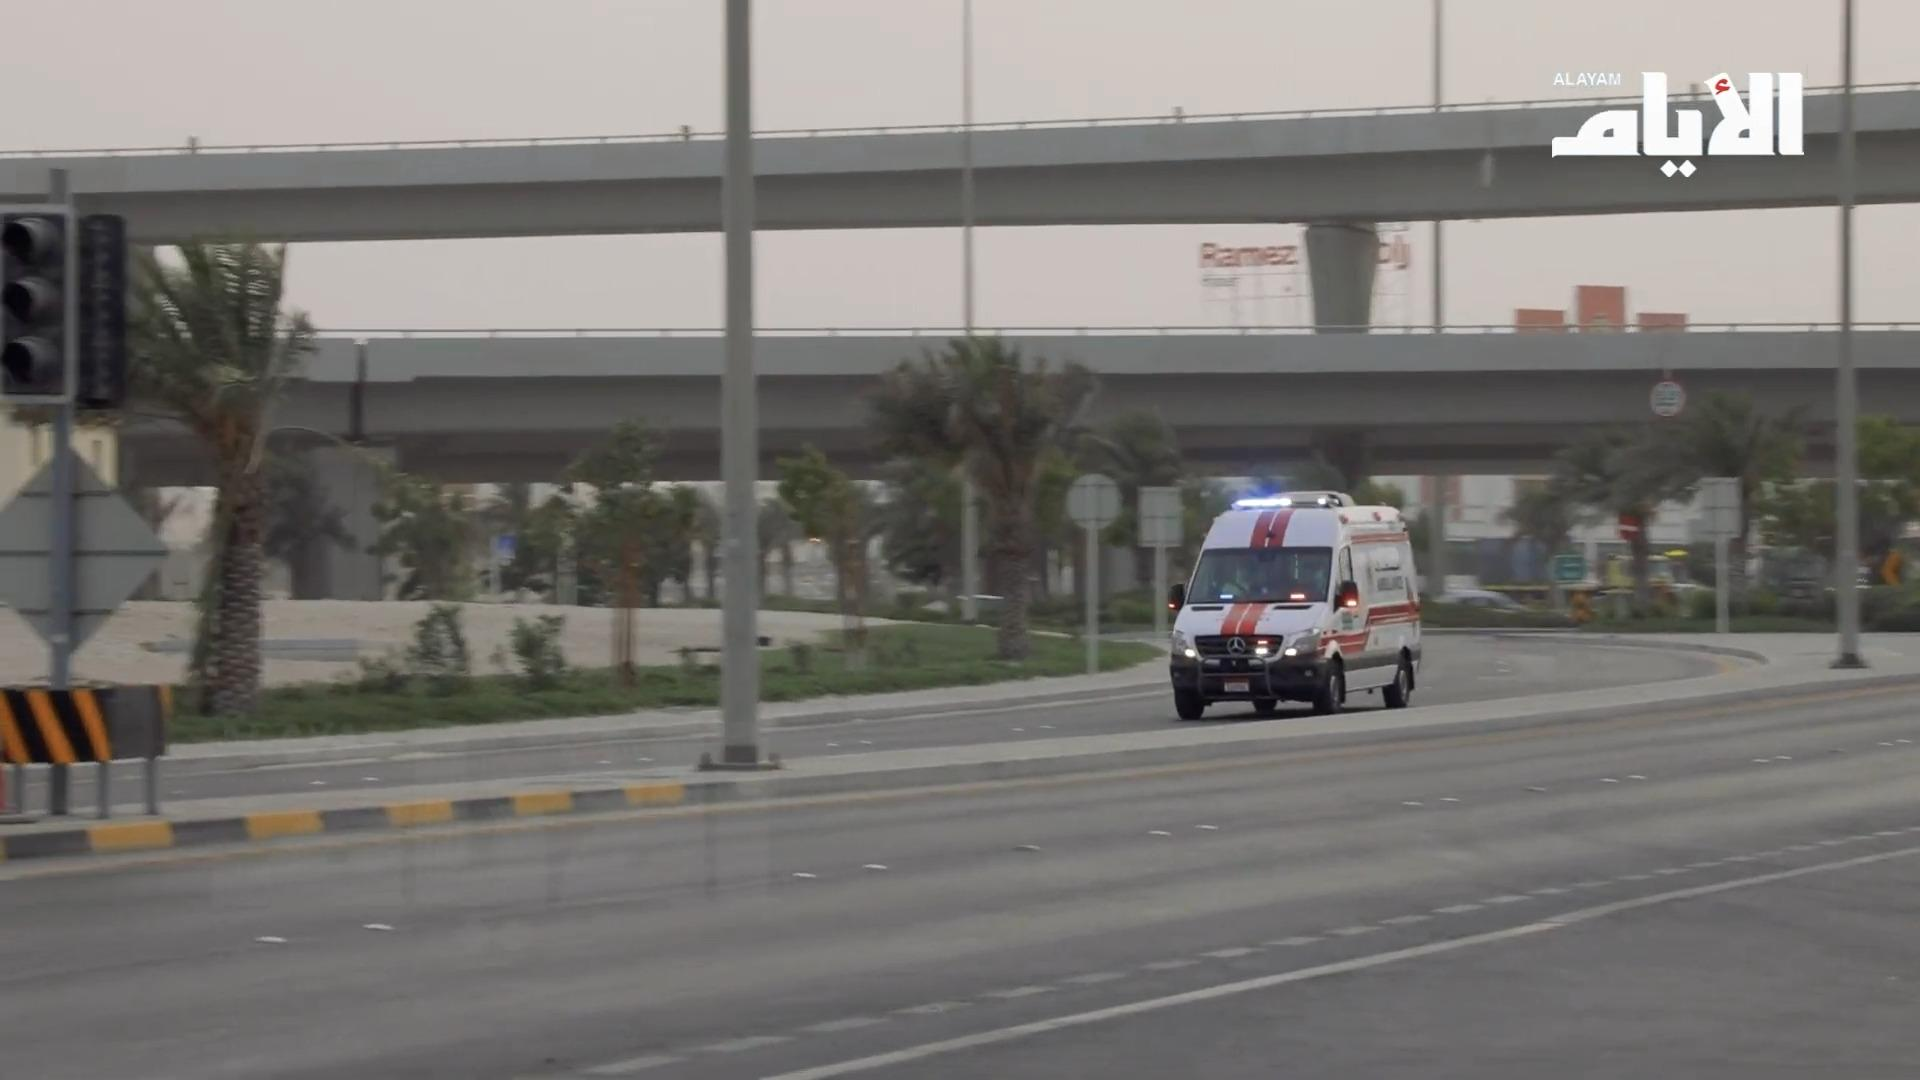ambulance_on: (1168, 491, 1420, 720)
